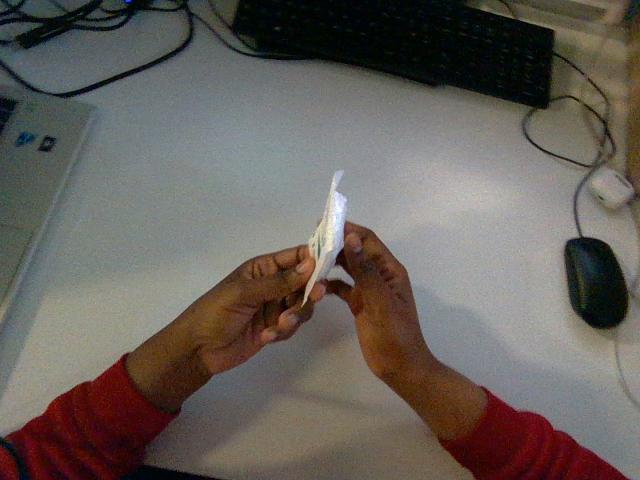gauze: (303, 171, 346, 305)
